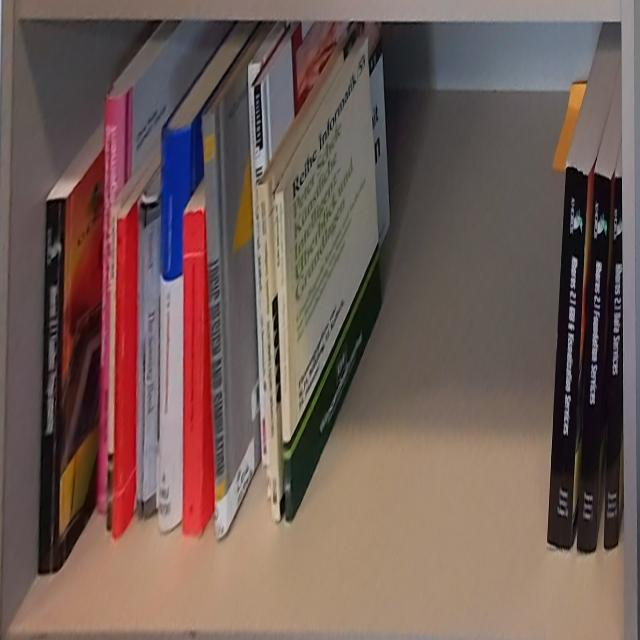Book Spine: (547, 163, 589, 547), (95, 90, 129, 514), (577, 170, 612, 551), (158, 125, 191, 529), (202, 108, 227, 541), (38, 197, 65, 574), (257, 182, 280, 522), (183, 209, 206, 534), (603, 177, 623, 550), (275, 191, 293, 524), (143, 206, 160, 520), (112, 218, 125, 538), (106, 208, 118, 534), (136, 203, 146, 520)
